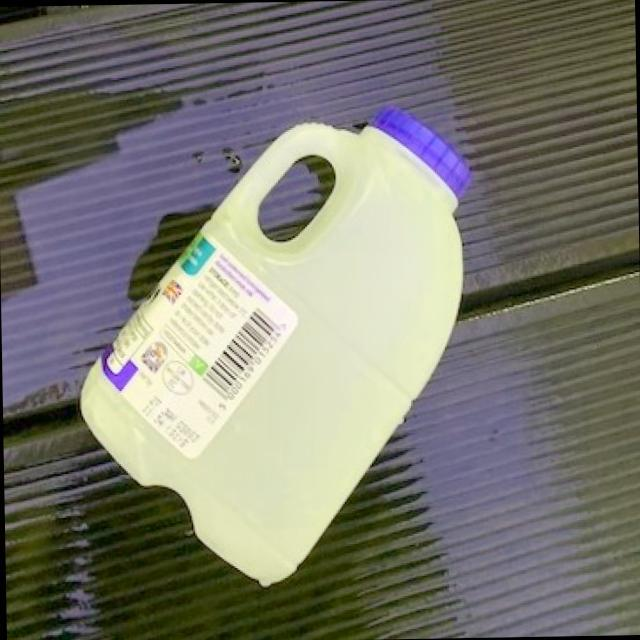HDPE Plastic: (76, 96, 476, 592)
